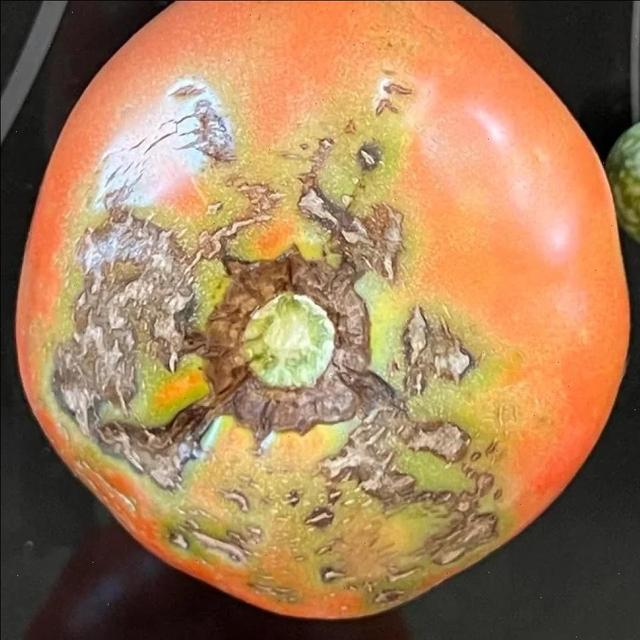Spotted wilt Virus Fruit: (64, 0, 164, 5)
